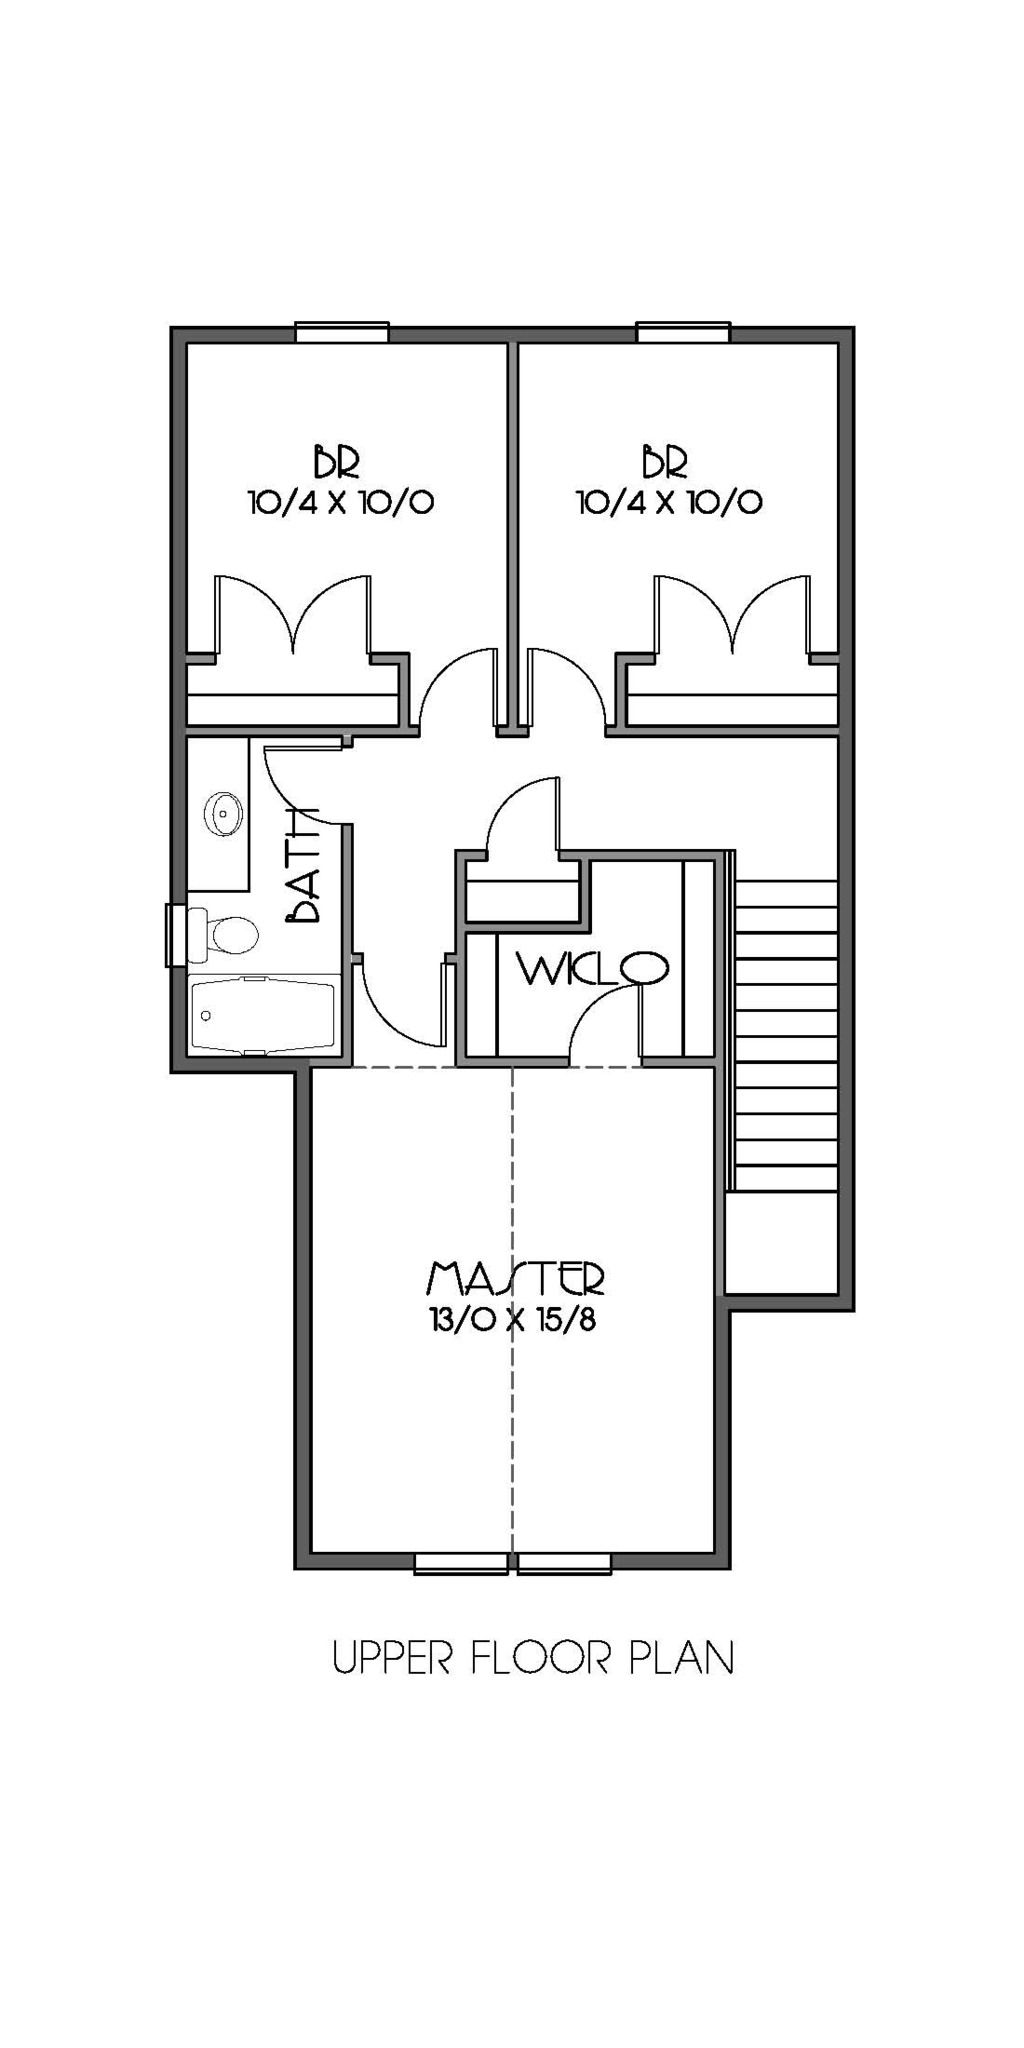door: (636, 568, 825, 667), (204, 559, 381, 657), (255, 741, 364, 853), (349, 950, 457, 1055), (564, 978, 667, 1083), (402, 643, 500, 741), (521, 633, 609, 741), (479, 776, 577, 866)
large_sink: (168, 900, 274, 967)
small_sink: (174, 738, 263, 889)
stairs: (730, 857, 839, 1209)
tub: (178, 967, 336, 1081)
window: (294, 308, 396, 351), (630, 313, 731, 357), (500, 1544, 628, 1578), (408, 1543, 508, 1586)
